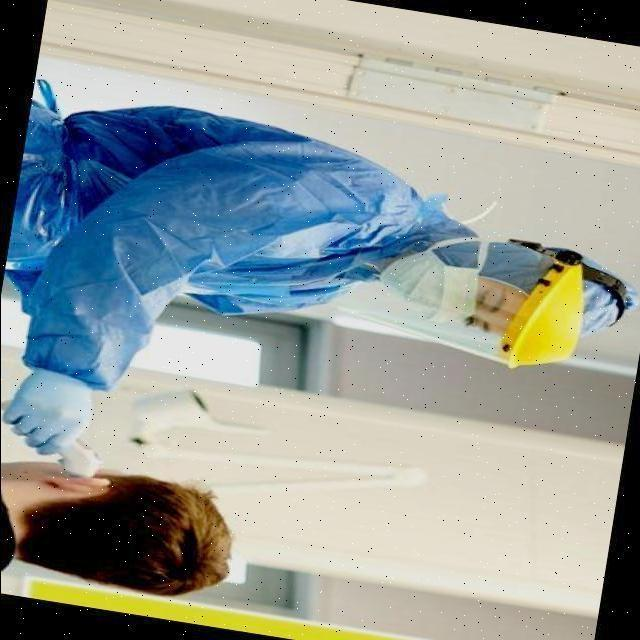apron: (10, 369, 91, 454)
mask: (398, 260, 454, 316)
no_gloves: (124, 486, 220, 581)
